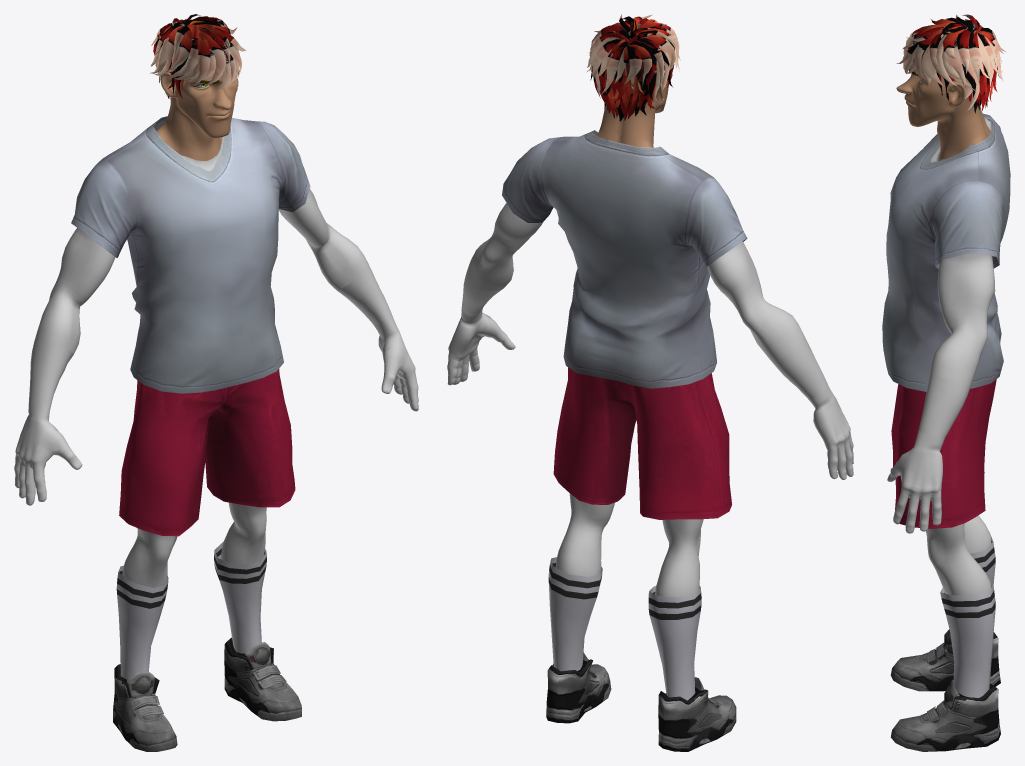
Rendered from M Character 7.fbx.
The picture shows the model from 3 angles, left to right: view 1: azimuth 30°, elevation 25°; view 2: azimuth 150°, elevation 25°; view 3: azimuth 270°, elevation 25°; orthographic projection.
Parts seen in each view (by area): view 1: M_t shirt 1, M_shorts 2, m_body.002, M_shoes 4, M_socks.002, m_body.001, M_hair 7, m_head, m_legs.001, m_body.003; view 2: M_t shirt 1, M_shorts 2, M_socks.002, m_body.002, M_shoes 4, M_hair 7, m_legs.001, m_body.001, m_body.003, m_head; view 3: M_t shirt 1, M_shorts 2, M_shoes 4, M_hair 7, m_body.002, M_socks.002, m_head, m_body.001, m_legs.001, m_body.003.
Part boxes in pixels (left/top/right/bottom): M_t shirt 1: left=71, top=116, right=310, bottom=393; M_shorts 2: left=119, top=369, right=295, bottom=536; m_body.002: left=34, top=189, right=368, bottom=353; M_shoes 4: left=113, top=637, right=301, bottom=751; M_socks.002: left=116, top=542, right=266, bottom=679; m_body.001: left=14, top=316, right=418, bottom=505; M_hair 7: left=150, top=14, right=246, bottom=98; m_head: left=156, top=69, right=239, bottom=160; m_legs.001: left=122, top=502, right=266, bottom=587; m_body.003: left=29, top=265, right=392, bottom=403; M_t shirt 1: left=502, top=130, right=747, bottom=388; M_shorts 2: left=553, top=367, right=731, bottom=519; M_socks.002: left=548, top=557, right=701, bottom=700; m_body.002: left=467, top=203, right=803, bottom=361; M_shoes 4: left=546, top=652, right=736, bottom=751; M_hair 7: left=587, top=14, right=680, bottom=121; m_legs.001: left=555, top=493, right=703, bottom=596; m_body.001: left=447, top=307, right=853, bottom=479; m_body.003: left=462, top=269, right=827, bottom=398; m_head: left=595, top=74, right=672, bottom=147; M_t shirt 1: left=882, top=113, right=1010, bottom=391; M_shorts 2: left=891, top=379, right=996, bottom=528; M_shoes 4: left=890, top=629, right=1000, bottom=751; M_hair 7: left=896, top=14, right=1006, bottom=113; m_body.002: left=930, top=118, right=995, bottom=386; M_socks.002: left=940, top=536, right=995, bottom=697; m_head: left=896, top=63, right=990, bottom=159; m_body.001: left=887, top=430, right=944, bottom=533; m_legs.001: left=926, top=515, right=991, bottom=595; m_body.003: left=918, top=373, right=970, bottom=438.
Size of the model in its own units: 117 by 200 by 33.6.
